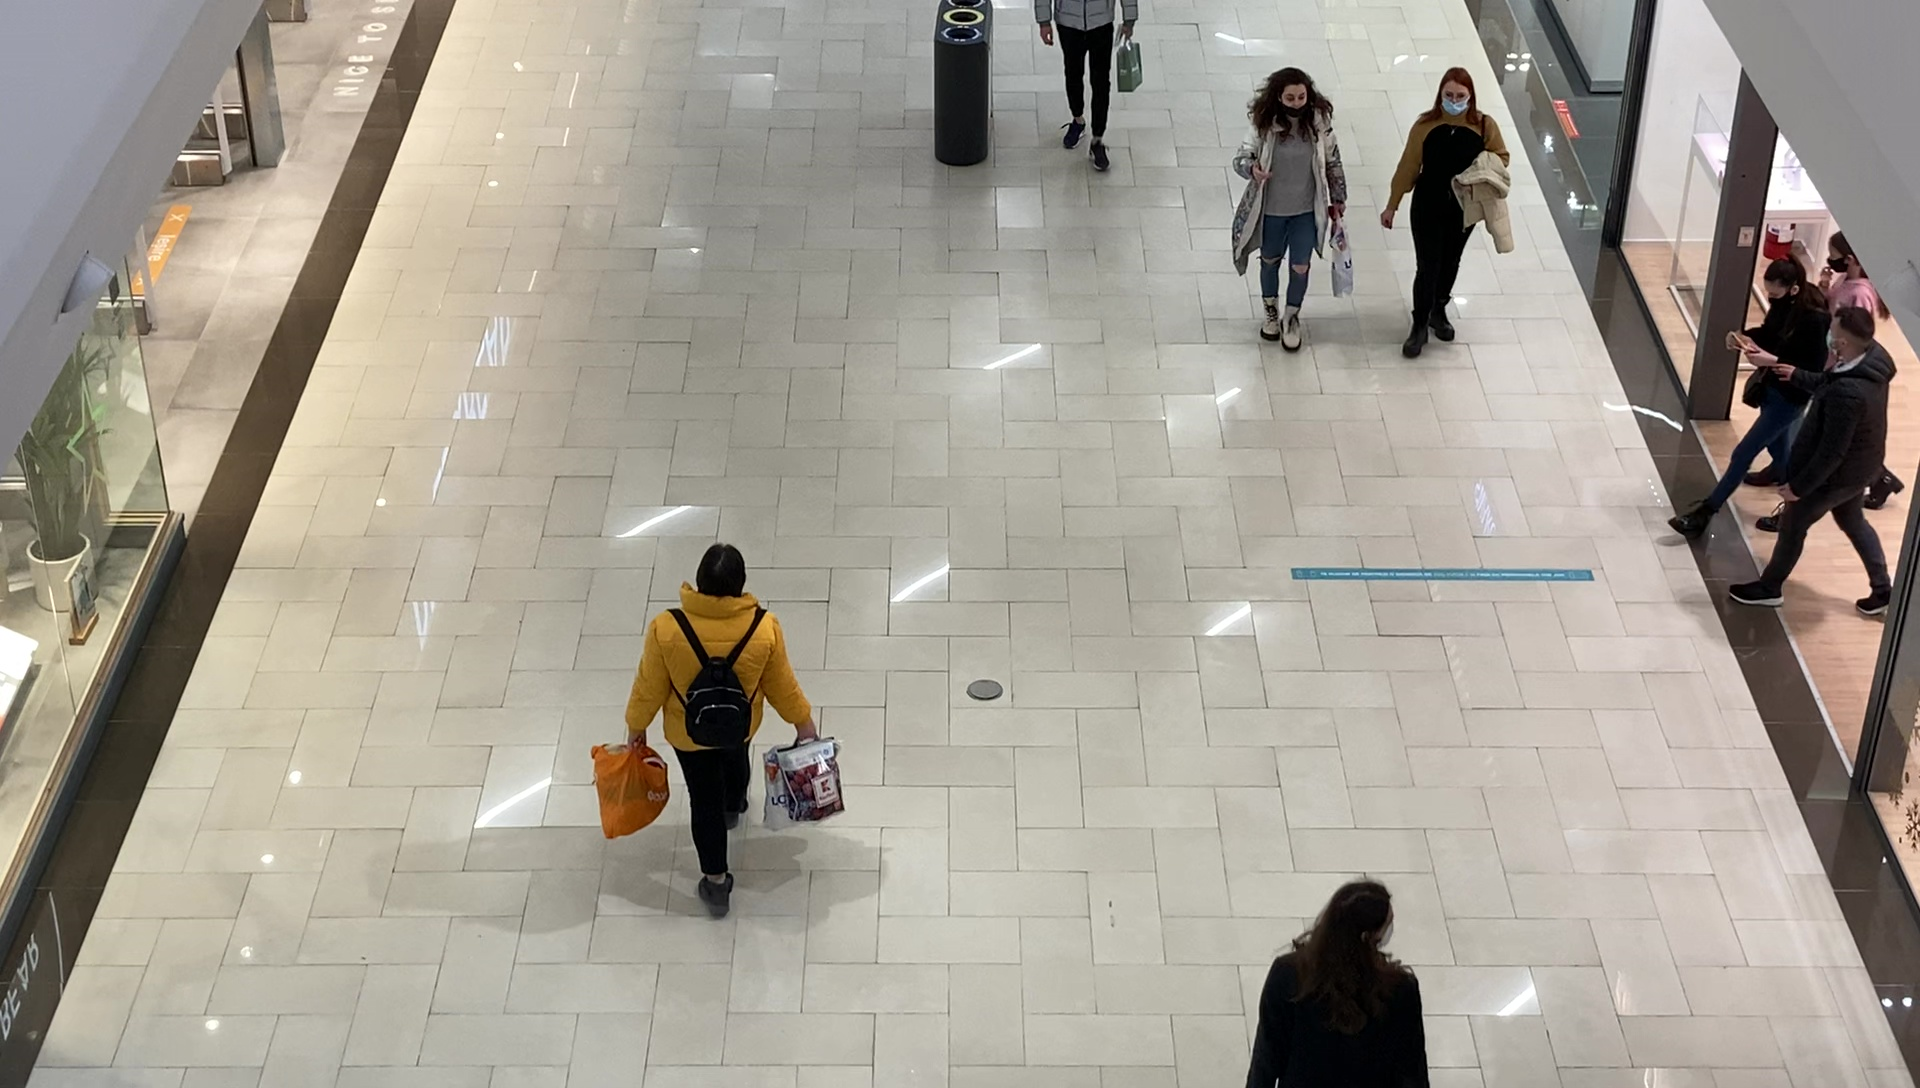person: (627, 545, 816, 916), (1244, 880, 1429, 1088), (1774, 306, 1896, 614), (1382, 66, 1511, 358), (1233, 66, 1356, 352), (1728, 258, 1810, 538), (1032, 1, 1140, 174)
